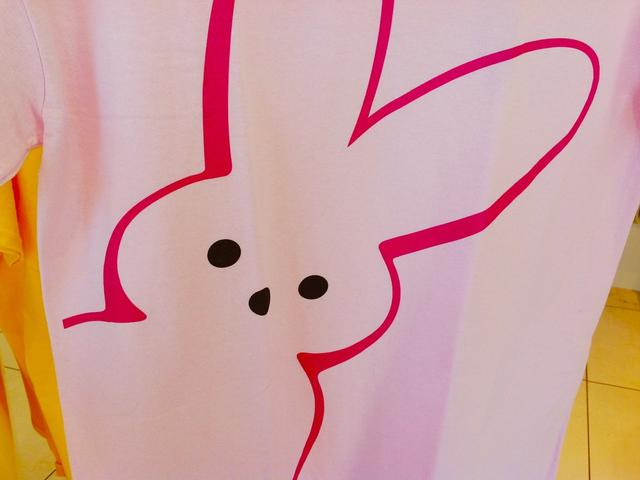rabbit: (52, 10, 624, 474)
